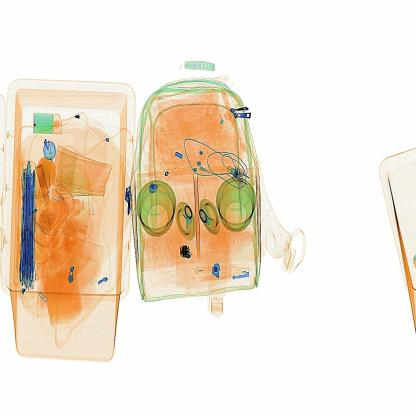scissors: (177, 242, 194, 262)
